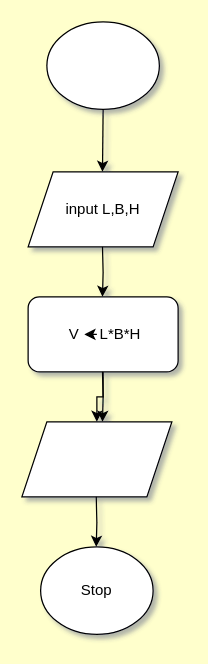
This 208x664 diagram has some shape labels left out. The box of each missing label's shape, as (x1, y1, x2, y2) in pixels:
Print V: (21, 421, 172, 497)
Start: (46, 21, 159, 109)
